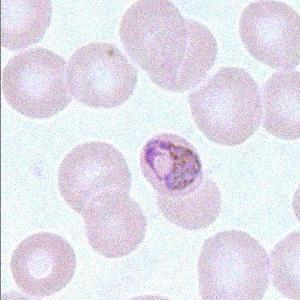Infected: (139, 132, 203, 193)
Uninfected: (191, 66, 263, 145), (119, 0, 187, 83), (144, 17, 218, 91), (58, 140, 132, 212), (197, 228, 269, 300), (2, 47, 74, 116), (67, 41, 138, 108), (10, 230, 76, 296), (238, 0, 300, 70), (84, 190, 146, 256), (154, 176, 221, 228)
